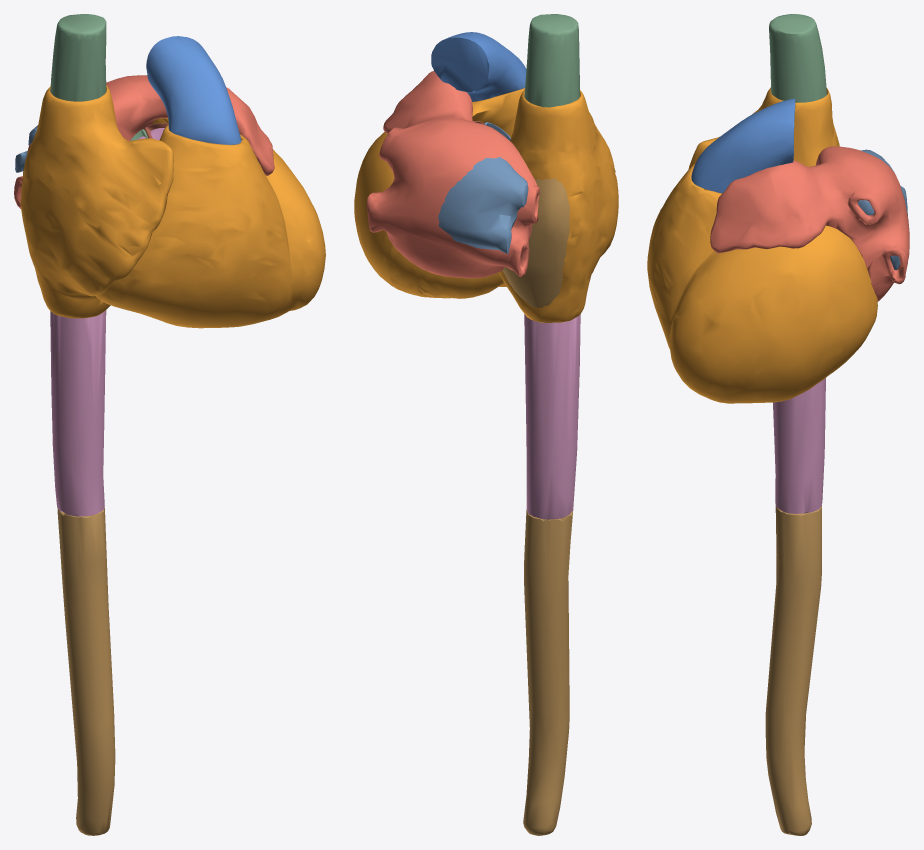
File: heart.glb
3 renders of one model, left to right at view 1: azimuth 30°, elevation 25°; view 2: azimuth 150°, elevation 25°; view 3: azimuth 270°, elevation 25°, orthographic.
Visible parts, largest first — view 1: Wall of ventricle, Wall of right atrium, Inferior vena cava (×2), Pulmonary trunk, Superior vena cava, Wall of left atrium; view 2: Inferior vena cava (×2), Wall of left atrium, Wall of right atrium, Wall of ventricle, Cavity of left atrium, Pulmonary trunk, Superior vena cava, Cavity of right atrium; view 3: Wall of ventricle, Inferior vena cava (×2), Wall of left atrium, Pulmonary trunk, Superior vena cava, Wall of right atrium, Cavity of left atrium.
Part boxes in pixels (box(x1,y1,x2,y2)): Wall of ventricle: box(96, 118, 325, 328); Wall of right atrium: box(20, 85, 173, 318); Inferior vena cava (×2): box(50, 310, 115, 835); Pulmonary trunk: box(146, 36, 241, 144); Superior vena cava: box(50, 14, 106, 101); Wall of left atrium: box(14, 75, 274, 208); Inferior vena cava (×2): box(523, 314, 580, 835); Wall of left atrium: box(366, 71, 540, 278); Wall of right atrium: box(498, 89, 618, 322); Wall of ventricle: box(354, 88, 524, 298); Cavity of left atrium: box(438, 157, 528, 253); Pulmonary trunk: box(431, 32, 526, 101); Superior vena cava: box(524, 14, 579, 107); Cavity of right atrium: box(502, 178, 569, 307); Wall of ventricle: box(647, 163, 877, 403); Inferior vena cava (×2): box(765, 378, 825, 835); Wall of left atrium: box(710, 146, 909, 301); Pulmonary trunk: box(691, 98, 795, 193); Superior vena cava: box(769, 14, 826, 102); Wall of right atrium: box(688, 87, 839, 168); Cavity of left atrium: box(858, 149, 907, 270).
Size of the model in its own units: 0.6432 by 2 by 0.5928.
